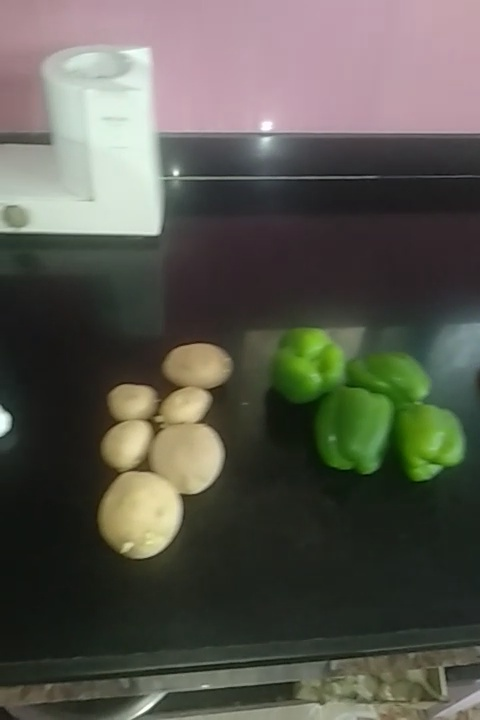capsicum: (310, 387, 394, 479), (398, 398, 472, 486), (265, 328, 349, 403), (348, 347, 440, 406)
potato: (99, 468, 179, 555), (150, 421, 222, 496), (162, 347, 240, 385), (149, 383, 215, 426), (101, 425, 155, 469), (104, 383, 159, 425)
